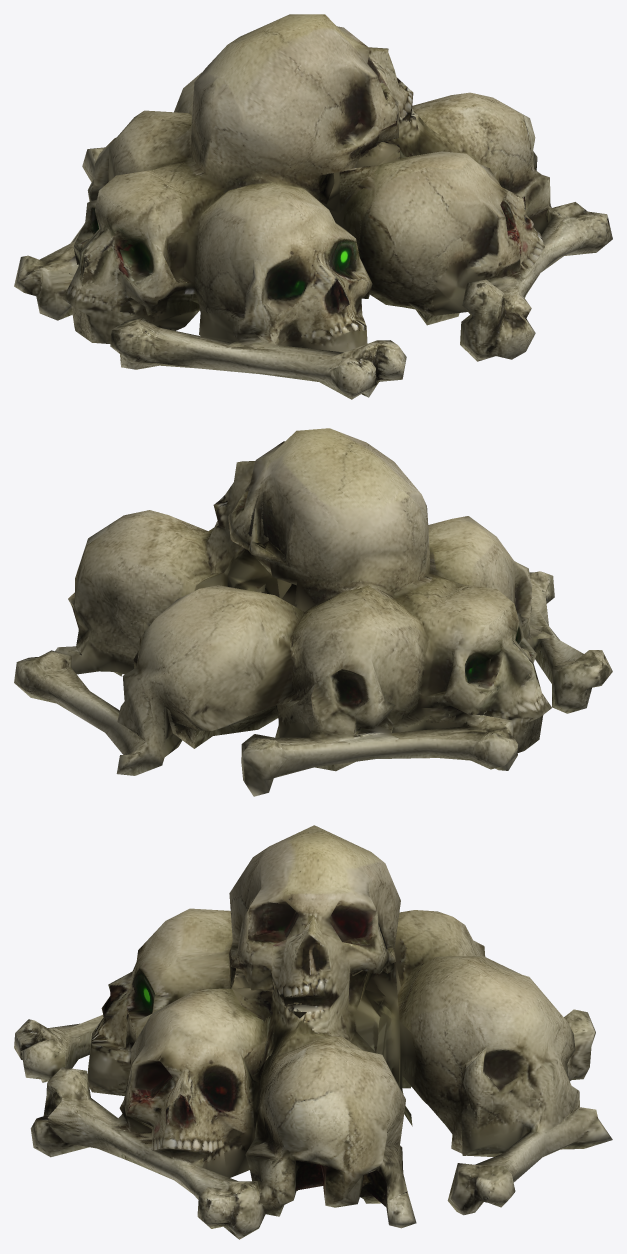
File: bone_pile.glb
3 views of the same model, one above another, from view 1: azimuth 30°, elevation 25°; view 2: azimuth 150°, elevation 25°; view 3: azimuth 270°, elevation 25° (orthographic). The views are drawn at different scales.
Size of the model in its own units: 0.9997 by 0.5134 by 1.
1 material, 1 textured.
